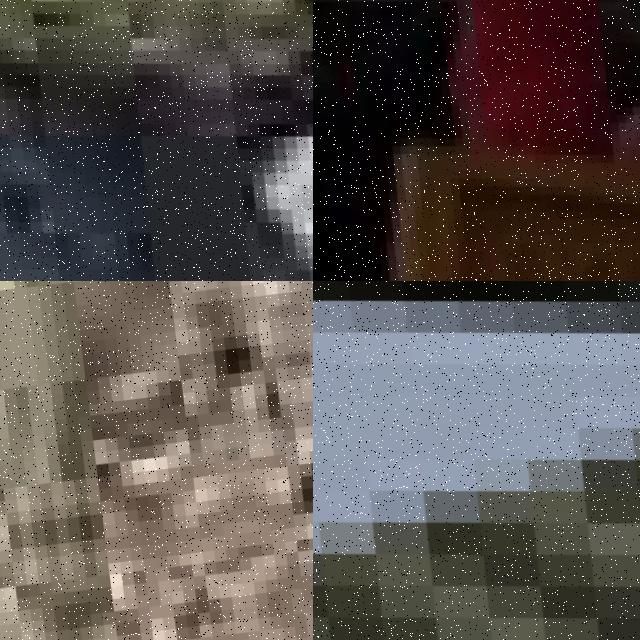drone: (313, 281, 640, 640), (313, 0, 640, 281), (0, 0, 313, 281)
